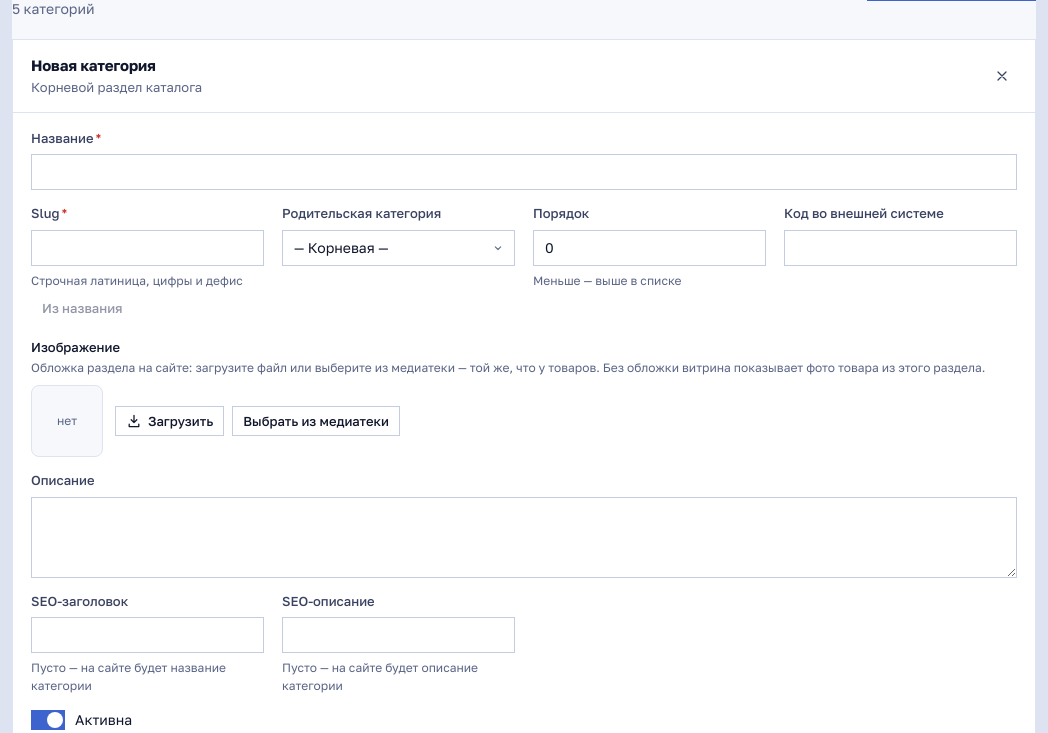
создание категории › 409 «slug занят» — ошибка у поля slug
Type "Канаты" into the field labelled "Название*".
click(524, 172); type("Канаты")  # box left=31, top=154, right=1017, bottom=190
(page scrolled)
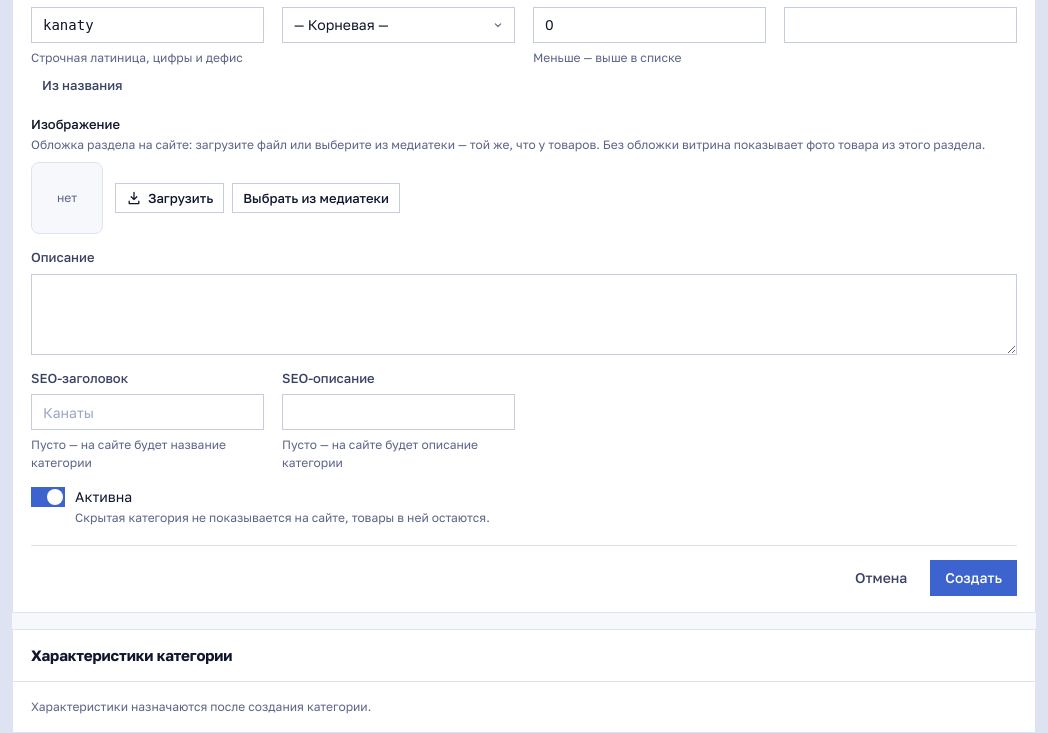
Click the button "Создать".
click(974, 578)  # box left=930, top=560, right=1017, bottom=596
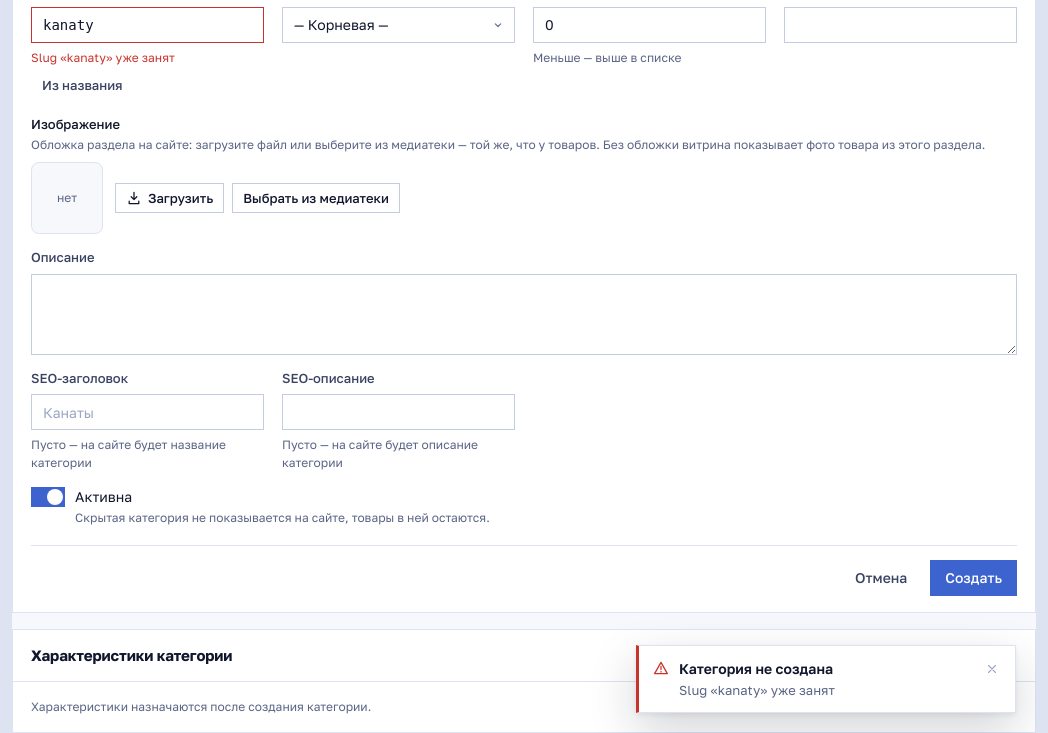
Expected: the text "Категория не создана" is shown, left=679, top=660, right=833, bottom=676
